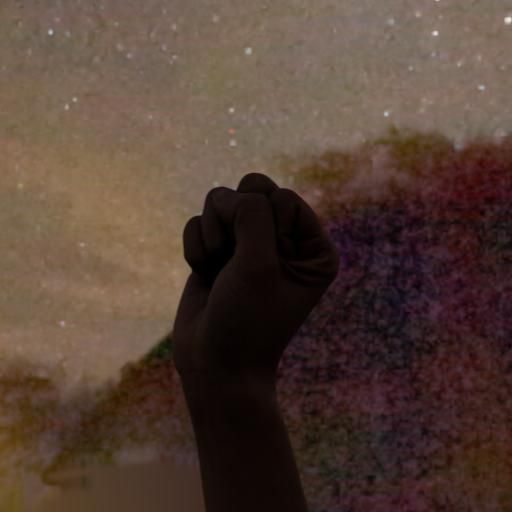S: (159, 164, 347, 396)
